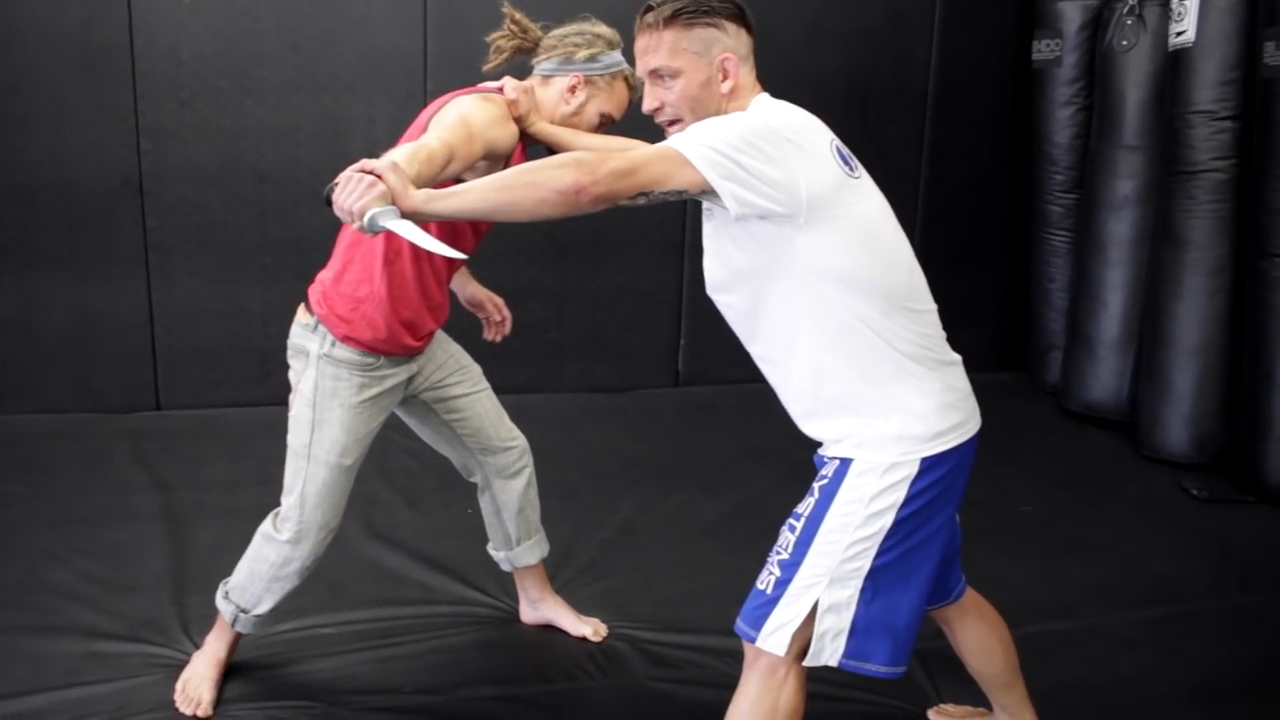knife: (320, 177, 482, 268)
